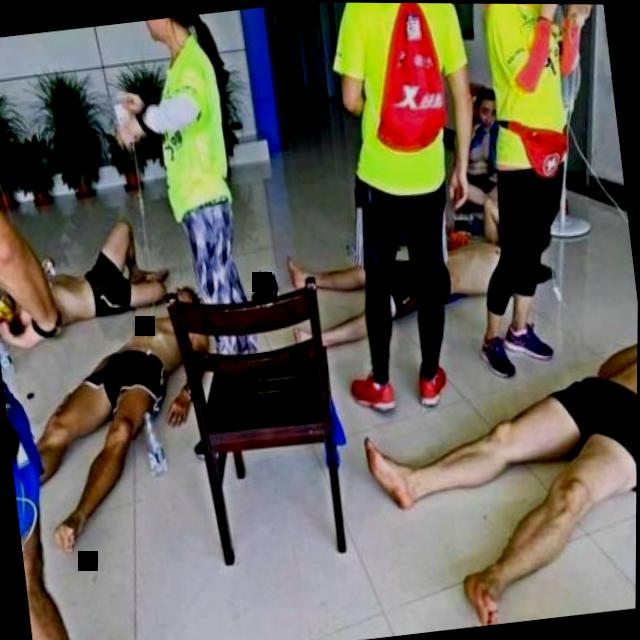Fall-Detected: (261, 189, 501, 371)
